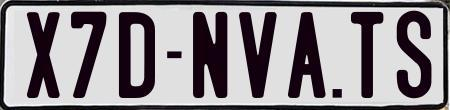7: (68, 9, 106, 97)
A: (287, 10, 325, 98)
D: (117, 10, 158, 96)
N: (192, 12, 227, 101)
S: (396, 8, 437, 95)
T: (350, 11, 383, 100)
V: (237, 10, 277, 102)
X: (25, 12, 58, 103)
